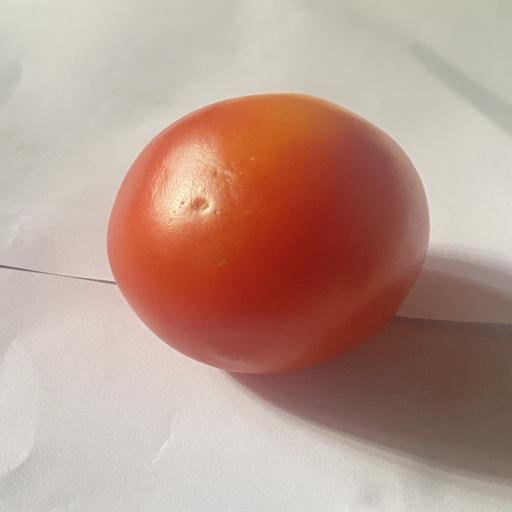ripe: (107, 94, 429, 373)
